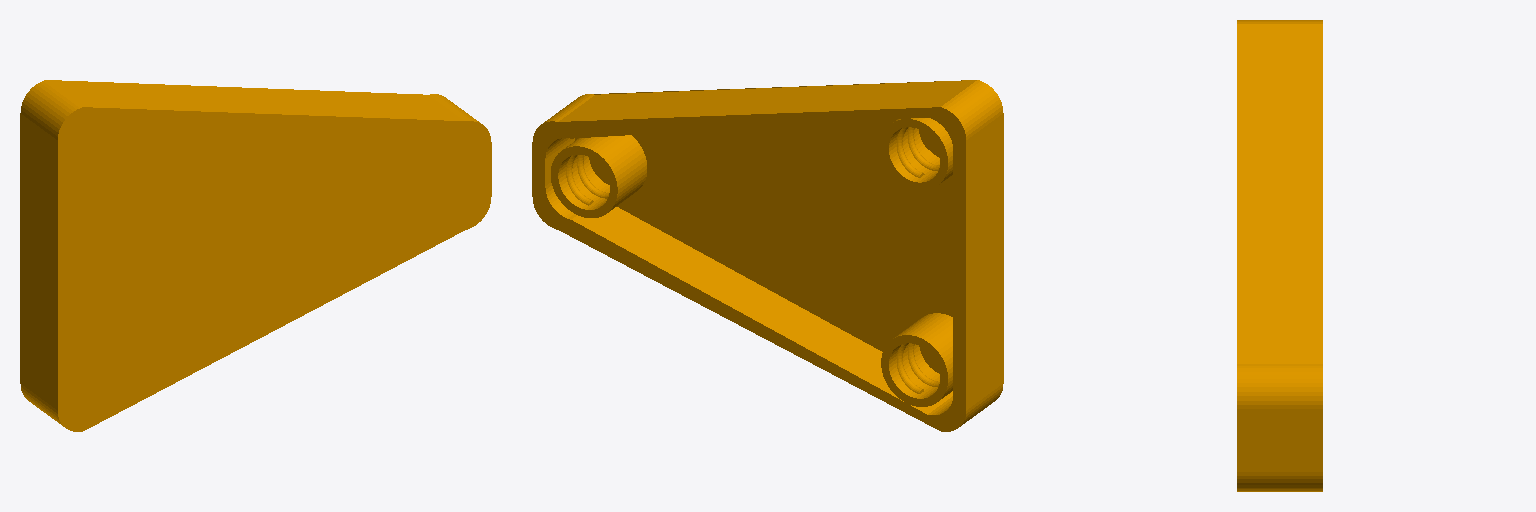
robot.urdf — desk_top_triangle:
<?xml version="1.0"?>
<robot name="desk_top_triangle">
    <link name="desk_top_triangle">
        <visual>
            <geometry>
                <mesh filename="../../mesh/desk/TriangleDesk/desk_top.obj" scale="1 1 1"/>
            </geometry>
        </visual>
        <collision>
            <geometry>
                <mesh filename="../../mesh/desk/TriangleDesk/desk_top.obj" scale="1 1 1"/>
            </geometry>
            <sdf resolution="512"/>
        </collision>
    </link>
</robot>

--- What the picture shows (computed from the rendered views, not written in the file) ---
Views: 3 orthographic renders of the robot side by side, from view 1: azimuth 30°, elevation 25°; view 2: azimuth 150°, elevation 25°; view 3: azimuth 270°, elevation 25°.
Robot: desk_top_triangle — 1 links, 0 joints (none); root link desk_top_triangle; default pose: all joints at 0.
Visible links, largest first — view 1: desk_top_triangle; view 2: desk_top_triangle; view 3: desk_top_triangle.
Boxes of the visible links, x1=… form: desk_top_triangle: x1=20, y1=80, x2=491, y2=431; desk_top_triangle: x1=532, y1=80, x2=1003, y2=431; desk_top_triangle: x1=1237, y1=20, x2=1322, y2=491.
Bounding box of the posed robot: 0.21 × 0.0312 × 0.15 m (x, y, z).
1 mesh visuals loaded from 1 distinct referenced files (1 OBJ).